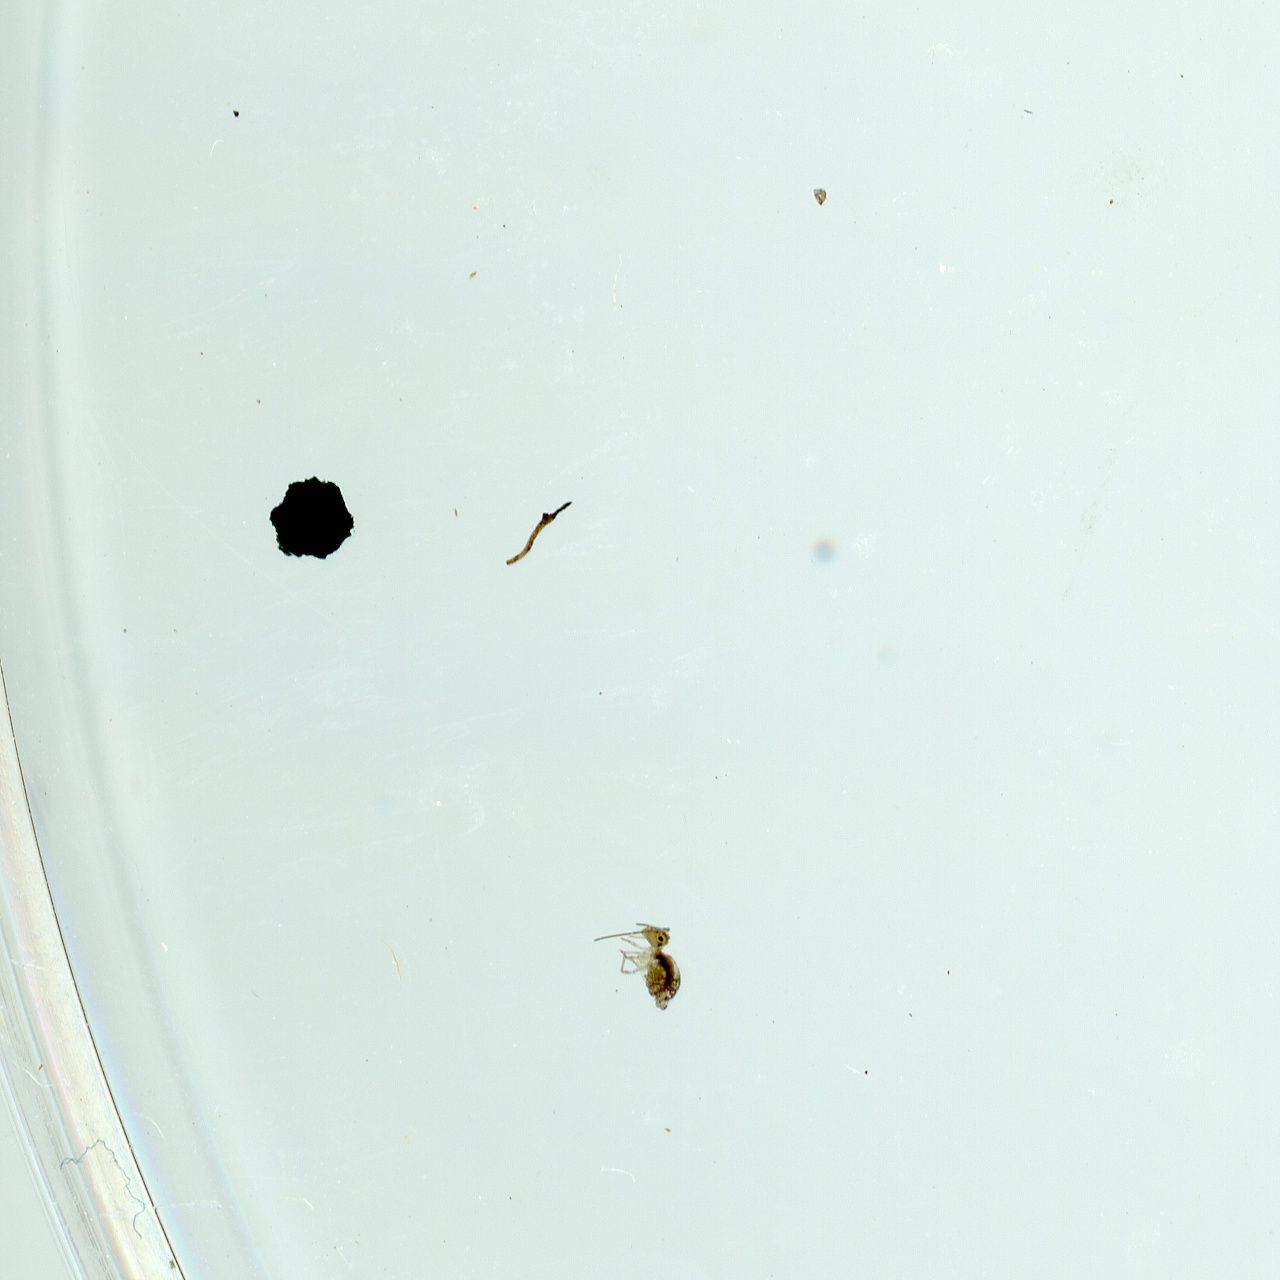arthropod: (588, 921, 684, 1012)
